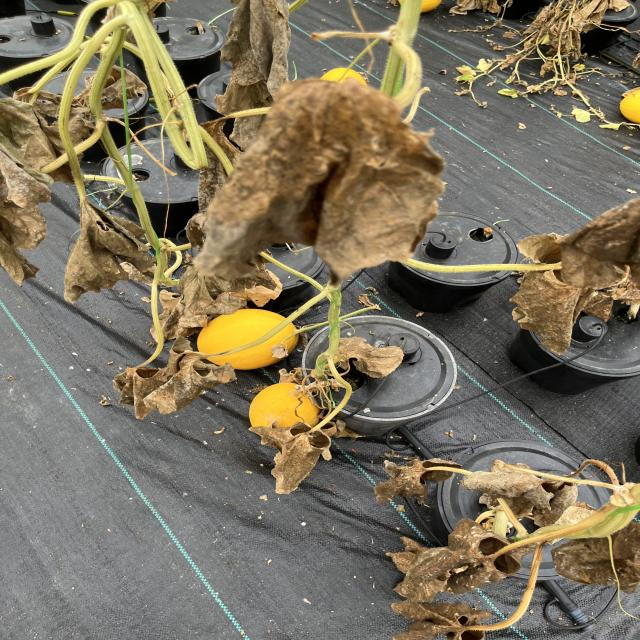bacterial wilt: (492, 237, 640, 341), (54, 206, 154, 303), (159, 255, 291, 328), (398, 523, 505, 599), (0, 165, 62, 281), (225, 0, 289, 105), (254, 428, 336, 499), (0, 102, 66, 170), (568, 530, 640, 592), (148, 350, 231, 403), (317, 338, 412, 375), (401, 601, 487, 639), (109, 359, 177, 398), (461, 464, 534, 499), (530, 479, 581, 522), (387, 458, 429, 502), (99, 70, 145, 104)
